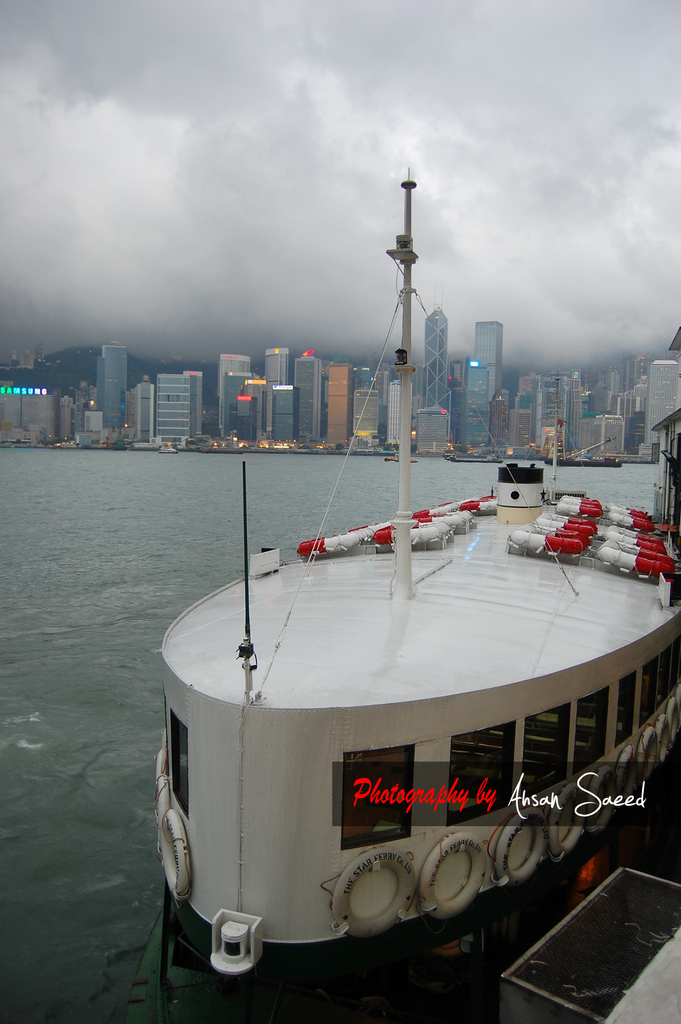boat: (132, 146, 670, 1011)
